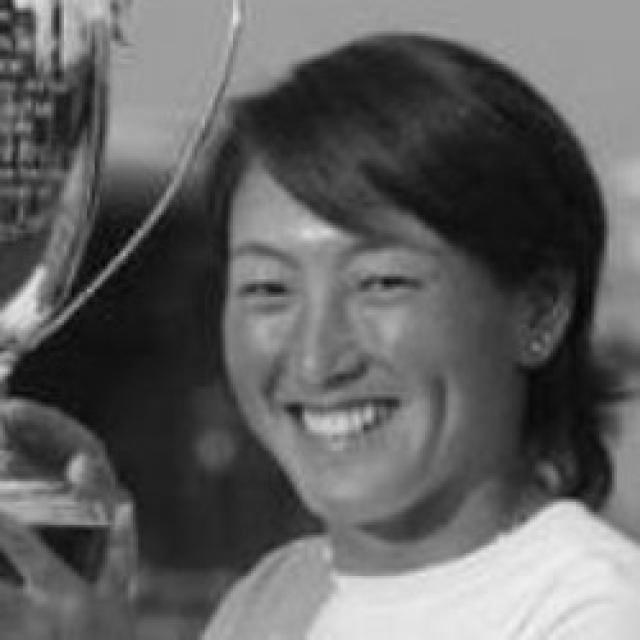real: (224, 132, 532, 544), (241, 259, 428, 318)
